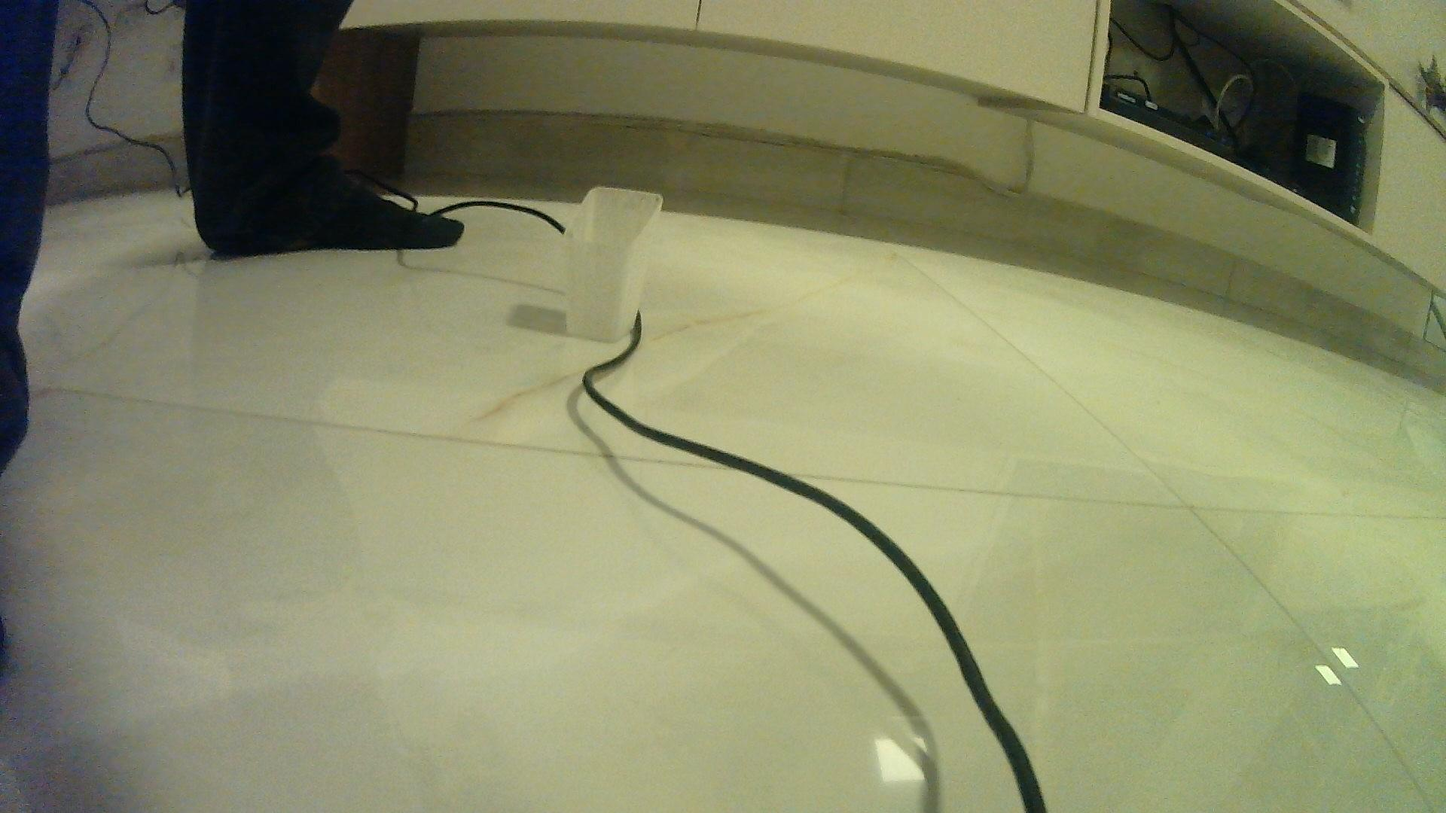erva_daninha: (556, 179, 667, 342)
